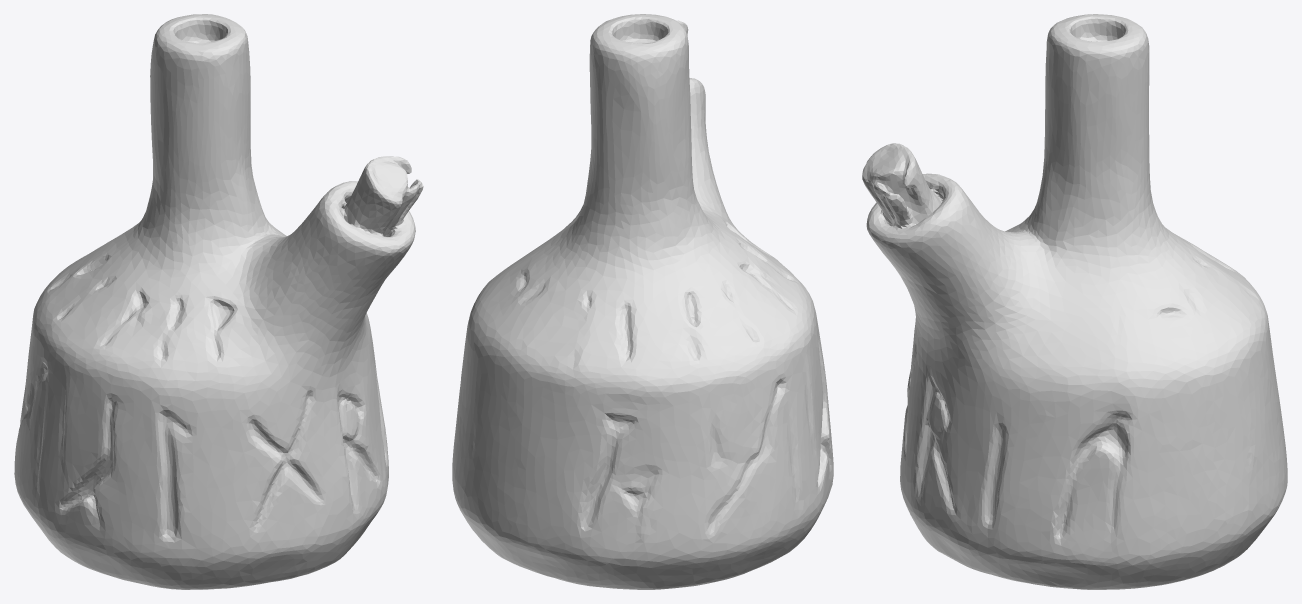
Rendered from rit_smoke_vial01.glb.
The picture shows the model from 3 angles, left to right: view 1: azimuth 30°, elevation 25°; view 2: azimuth 150°, elevation 25°; view 3: azimuth 270°, elevation 25°; orthographic projection.
Visible parts, largest first — view 1: Low; view 2: Low; view 3: Low.
Part boxes in pixels (x1,y1,x2,y2): Low: [14, 14, 423, 589]; Low: [452, 14, 833, 589]; Low: [862, 14, 1287, 589].
Size of the model in its own units: 1.38 by 1.99 by 1.55.
Materials: 1 (1 with a texture image).
